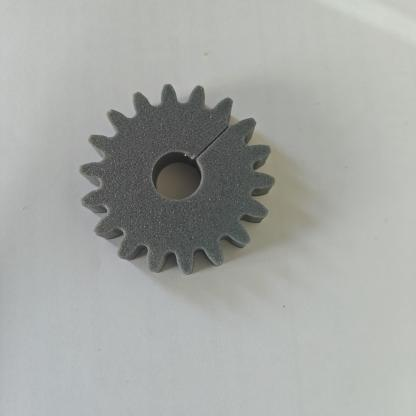defect: (174, 98, 263, 182)
gear: (53, 82, 293, 286)
